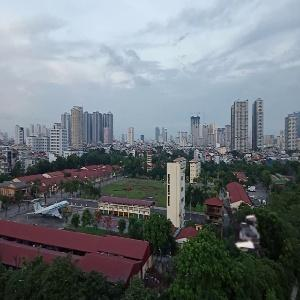drone: (214, 197, 277, 260)
